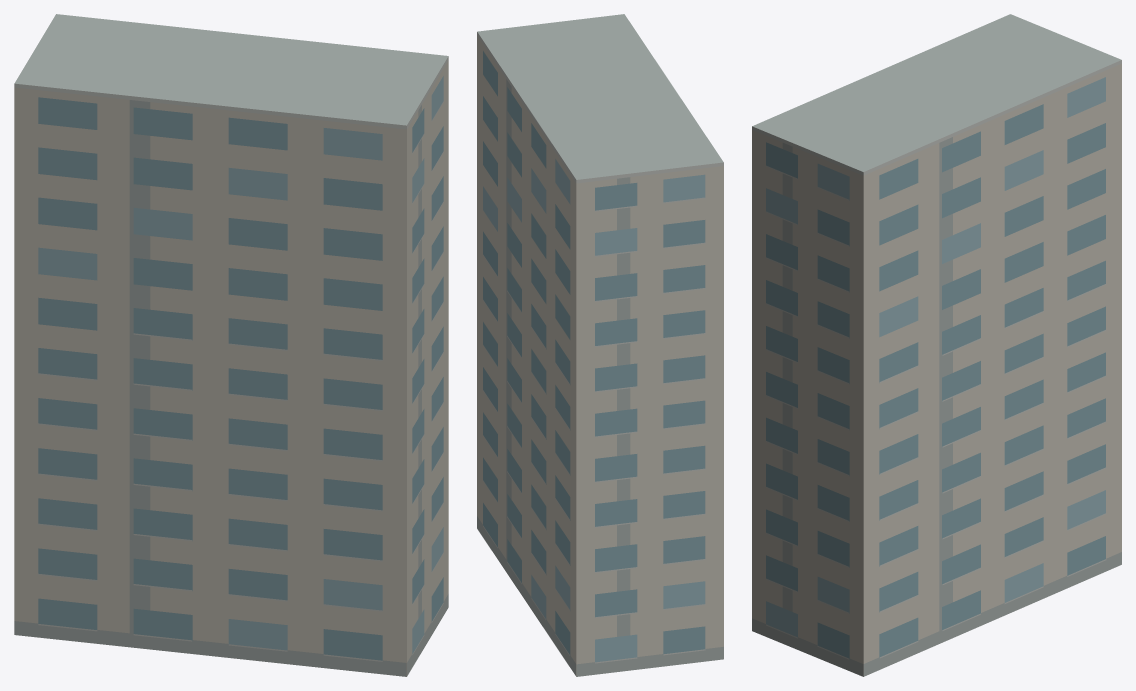
The model's file is residential-146682c8-0143-448c-a04c-18a5d1997fb5.glb.
The picture shows the model from 3 angles, left to right: view 1: azimuth 30°, elevation 25°; view 2: azimuth 150°, elevation 25°; view 3: azimuth 270°, elevation 25°; orthographic projection. The views are drawn at different scales.
Parts seen in each view (by area): view 1: residential-146682c8-0143-448c-a04c-18a5d1997fb5.tmp; view 2: residential-146682c8-0143-448c-a04c-18a5d1997fb5.tmp; view 3: residential-146682c8-0143-448c-a04c-18a5d1997fb5.tmp.
Boxes of the visible parts, x1,y1,x2,y2 form: residential-146682c8-0143-448c-a04c-18a5d1997fb5.tmp: (14,14,448,676); residential-146682c8-0143-448c-a04c-18a5d1997fb5.tmp: (477,14,723,676); residential-146682c8-0143-448c-a04c-18a5d1997fb5.tmp: (752,14,1121,676).
Bounding box in the file's own units: 22.85 × 34 × 22.58.
